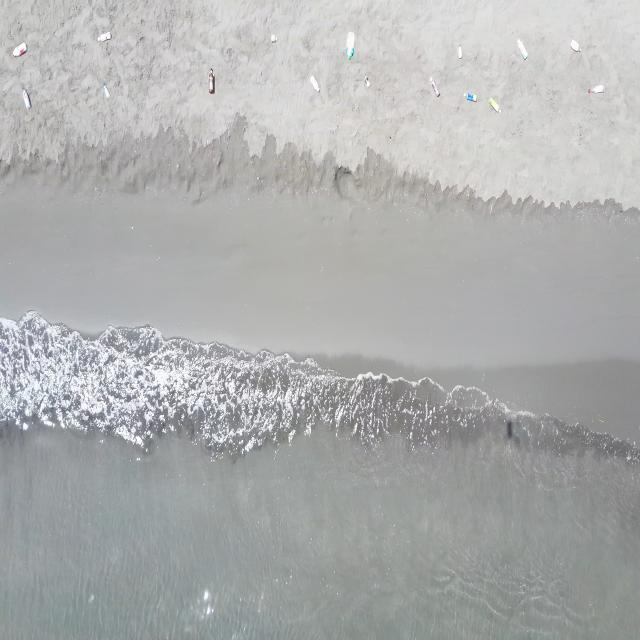plastic-bottle: (346, 30, 356, 60), (12, 40, 27, 59), (517, 37, 528, 60), (569, 37, 582, 56), (207, 67, 216, 94), (430, 76, 441, 98), (22, 86, 32, 110), (586, 84, 605, 96), (489, 97, 502, 114), (97, 30, 112, 44), (463, 92, 478, 104), (310, 74, 320, 92), (363, 72, 372, 90), (103, 82, 111, 99), (458, 44, 464, 60), (270, 33, 278, 44)
